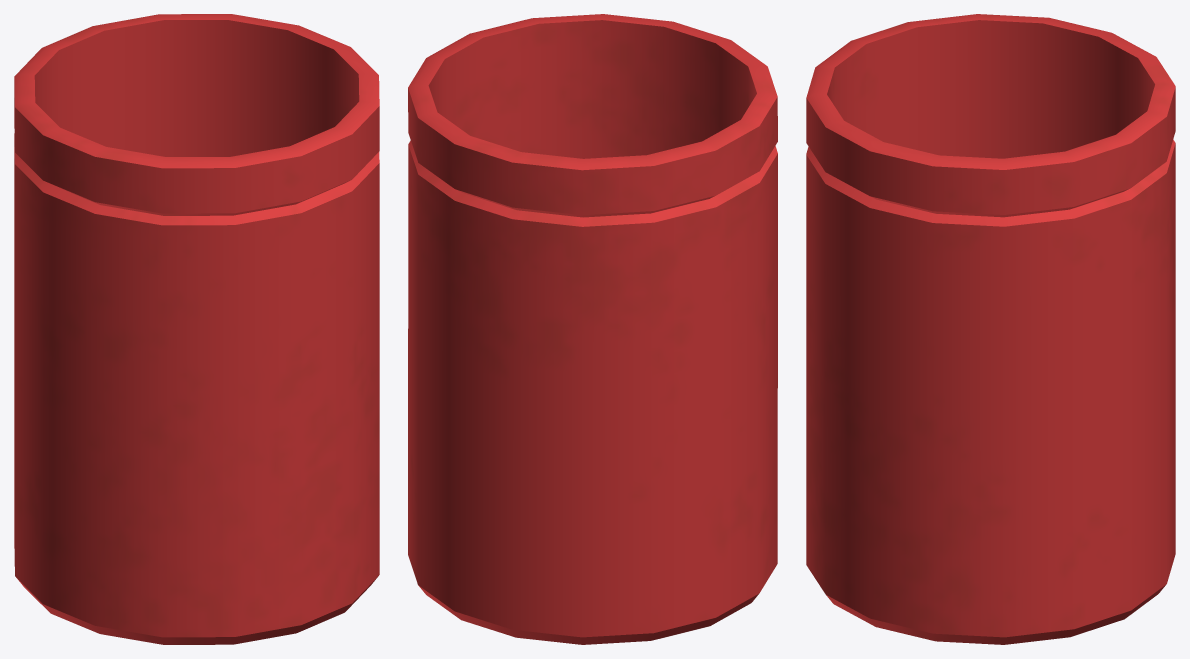
The model's file is pencilCup00.fbx.
3 renders of one model, left to right at view 1: azimuth 30°, elevation 25°; view 2: azimuth 150°, elevation 25°; view 3: azimuth 270°, elevation 25°, orthographic.
Parts seen in each view (by area): view 1: pencilCup.001; view 2: pencilCup.001; view 3: pencilCup.001.
Boxes of the visible parts, x1=… form: pencilCup.001: x1=14, y1=14, x2=379, y2=644; pencilCup.001: x1=408, y1=14, x2=777, y2=644; pencilCup.001: x1=806, y1=14, x2=1175, y2=644.
Bounding box in the file's own units: 0.2896 × 0.416 × 0.2896.
